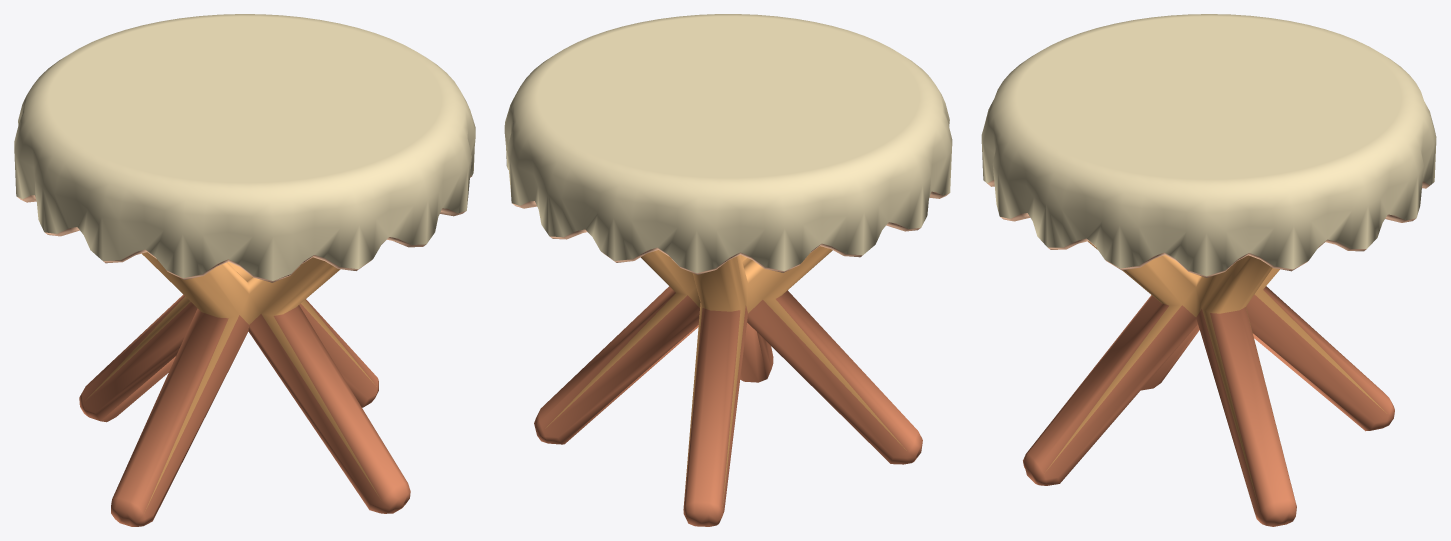
File: mesa_natal_redonda_toalha_pacote.glb
3 renders of one model, left to right at view 1: azimuth 30°, elevation 25°; view 2: azimuth 150°, elevation 25°; view 3: azimuth 270°, elevation 25°, orthographic. The views are drawn at different scales.
Visible parts, largest first — view 1: mesa_natal_redonda_toalha_pacote; view 2: mesa_natal_redonda_toalha_pacote; view 3: mesa_natal_redonda_toalha_pacote.
Part boxes in pixels (left/top/right/bottom): mesa_natal_redonda_toalha_pacote: left=14, top=14, right=475, bottom=526; mesa_natal_redonda_toalha_pacote: left=504, top=14, right=952, bottom=526; mesa_natal_redonda_toalha_pacote: left=981, top=14, right=1436, bottom=526.
Bounding box in the file's own units: 0.8672 × 0.7498 × 0.8671.
1 material, 1 textured.
